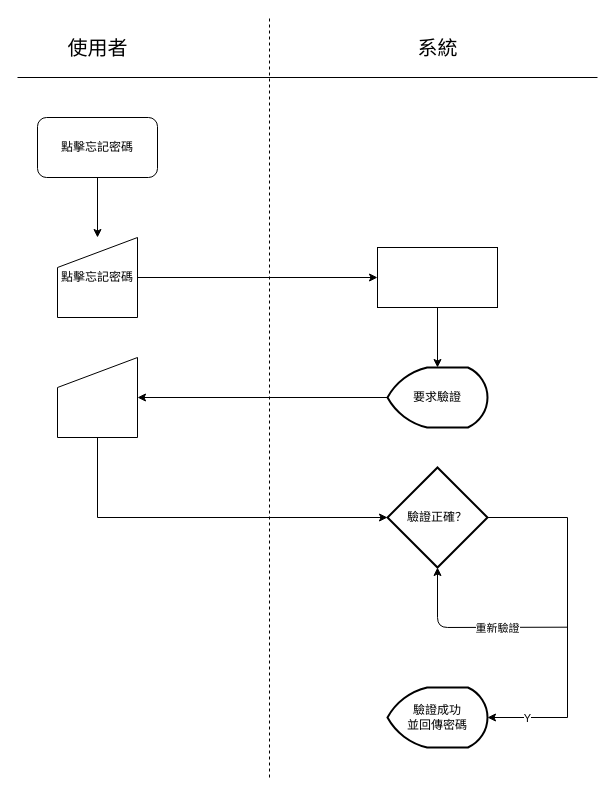
Image size: 616x796. Some labels were removed from this diagram. Each missing label, with the box of its shape:
忘記密碼處理: (376, 246, 498, 308)
輸入驗證碼: (56, 356, 138, 438)
